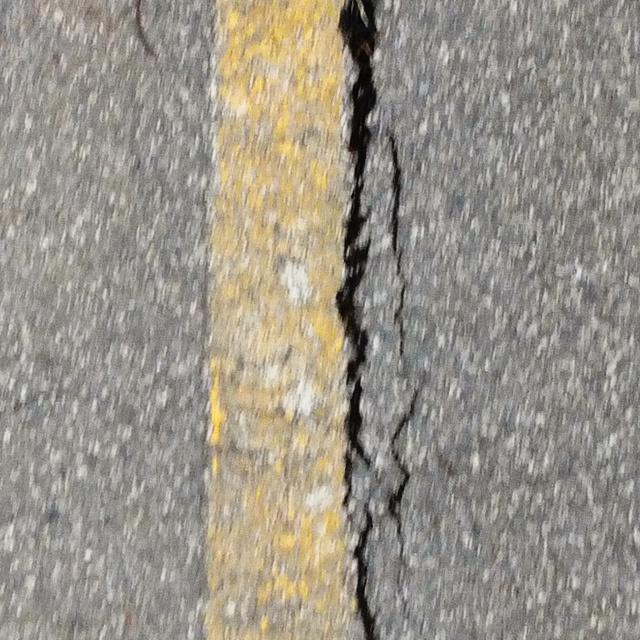LongitudinalCrack: (332, 1, 383, 640), (386, 381, 420, 608), (384, 132, 406, 360)
